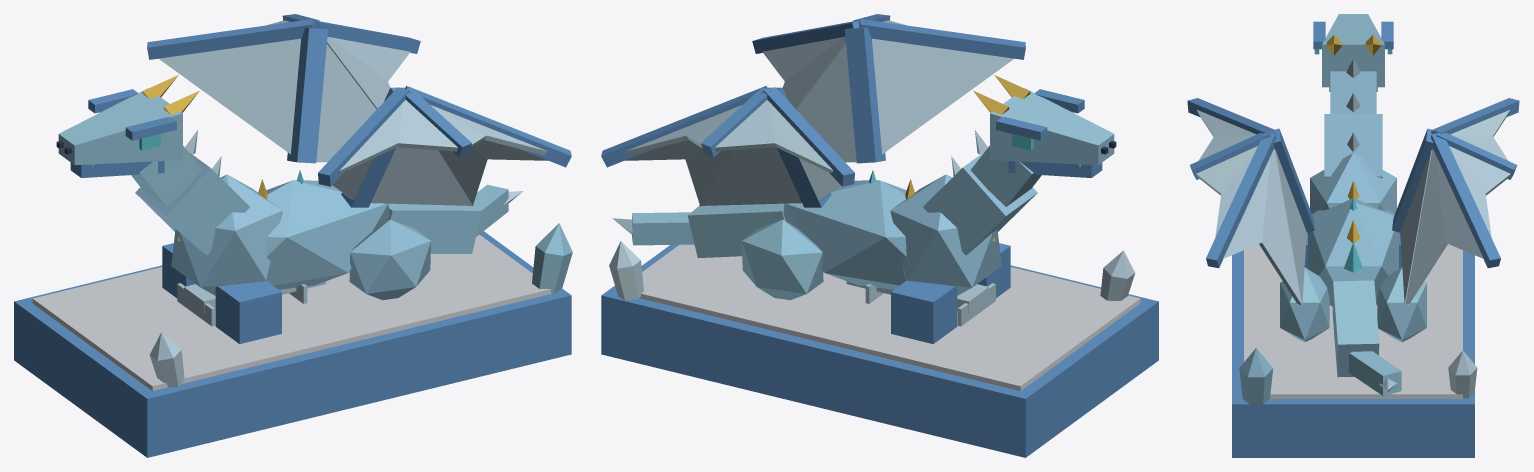
The model's file is Decor_IcePalace_Drake.fbx.
3 views of the same model, side by side, from view 1: azimuth 30°, elevation 25°; view 2: azimuth 150°, elevation 25°; view 3: azimuth 270°, elevation 25° (orthographic). The views are drawn at different scales.
Visible parts, largest first — view 1: Drake_Body; view 2: Drake_Body; view 3: Drake_Body.
Part boxes in pixels (x1,y1,x2,y2): Drake_Body: (14,14,572,457); Drake_Body: (601,14,1158,457); Drake_Body: (1187,14,1519,457).
Size of the model in its own units: 20.1 by 12 by 13.2.
